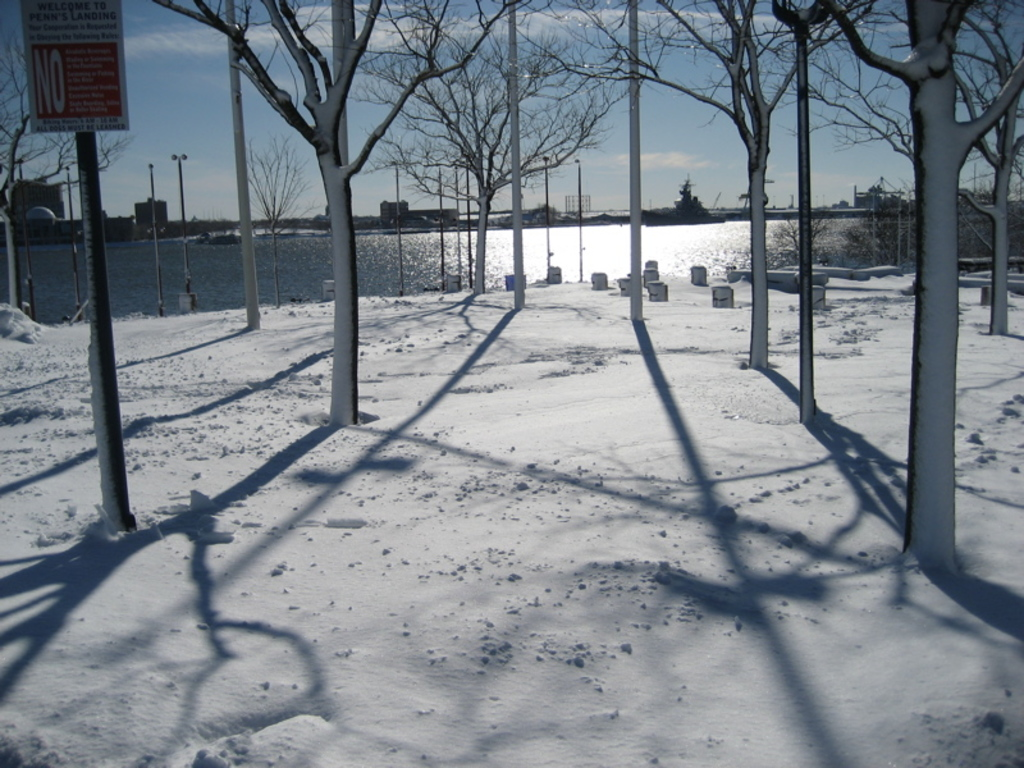Tree: (487, 0, 1022, 564), (147, 24, 628, 317), (0, 38, 138, 322)
